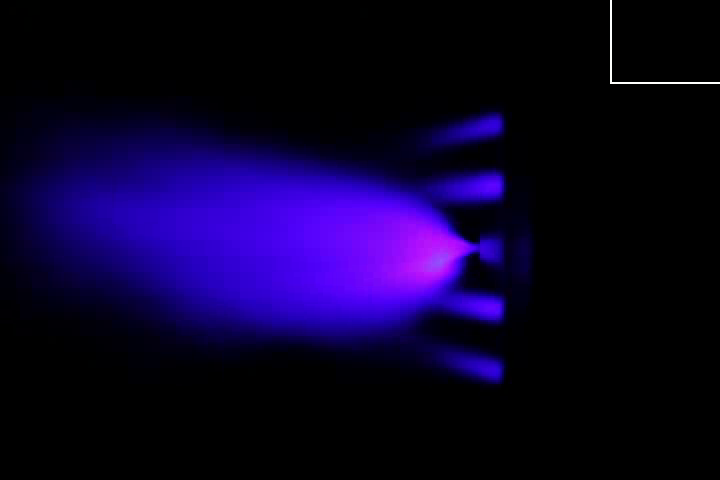burner cap: (410, 343, 504, 384), (416, 170, 505, 205), (421, 113, 501, 149), (437, 291, 509, 328), (476, 234, 511, 273)
stable: (378, 211, 479, 284)
